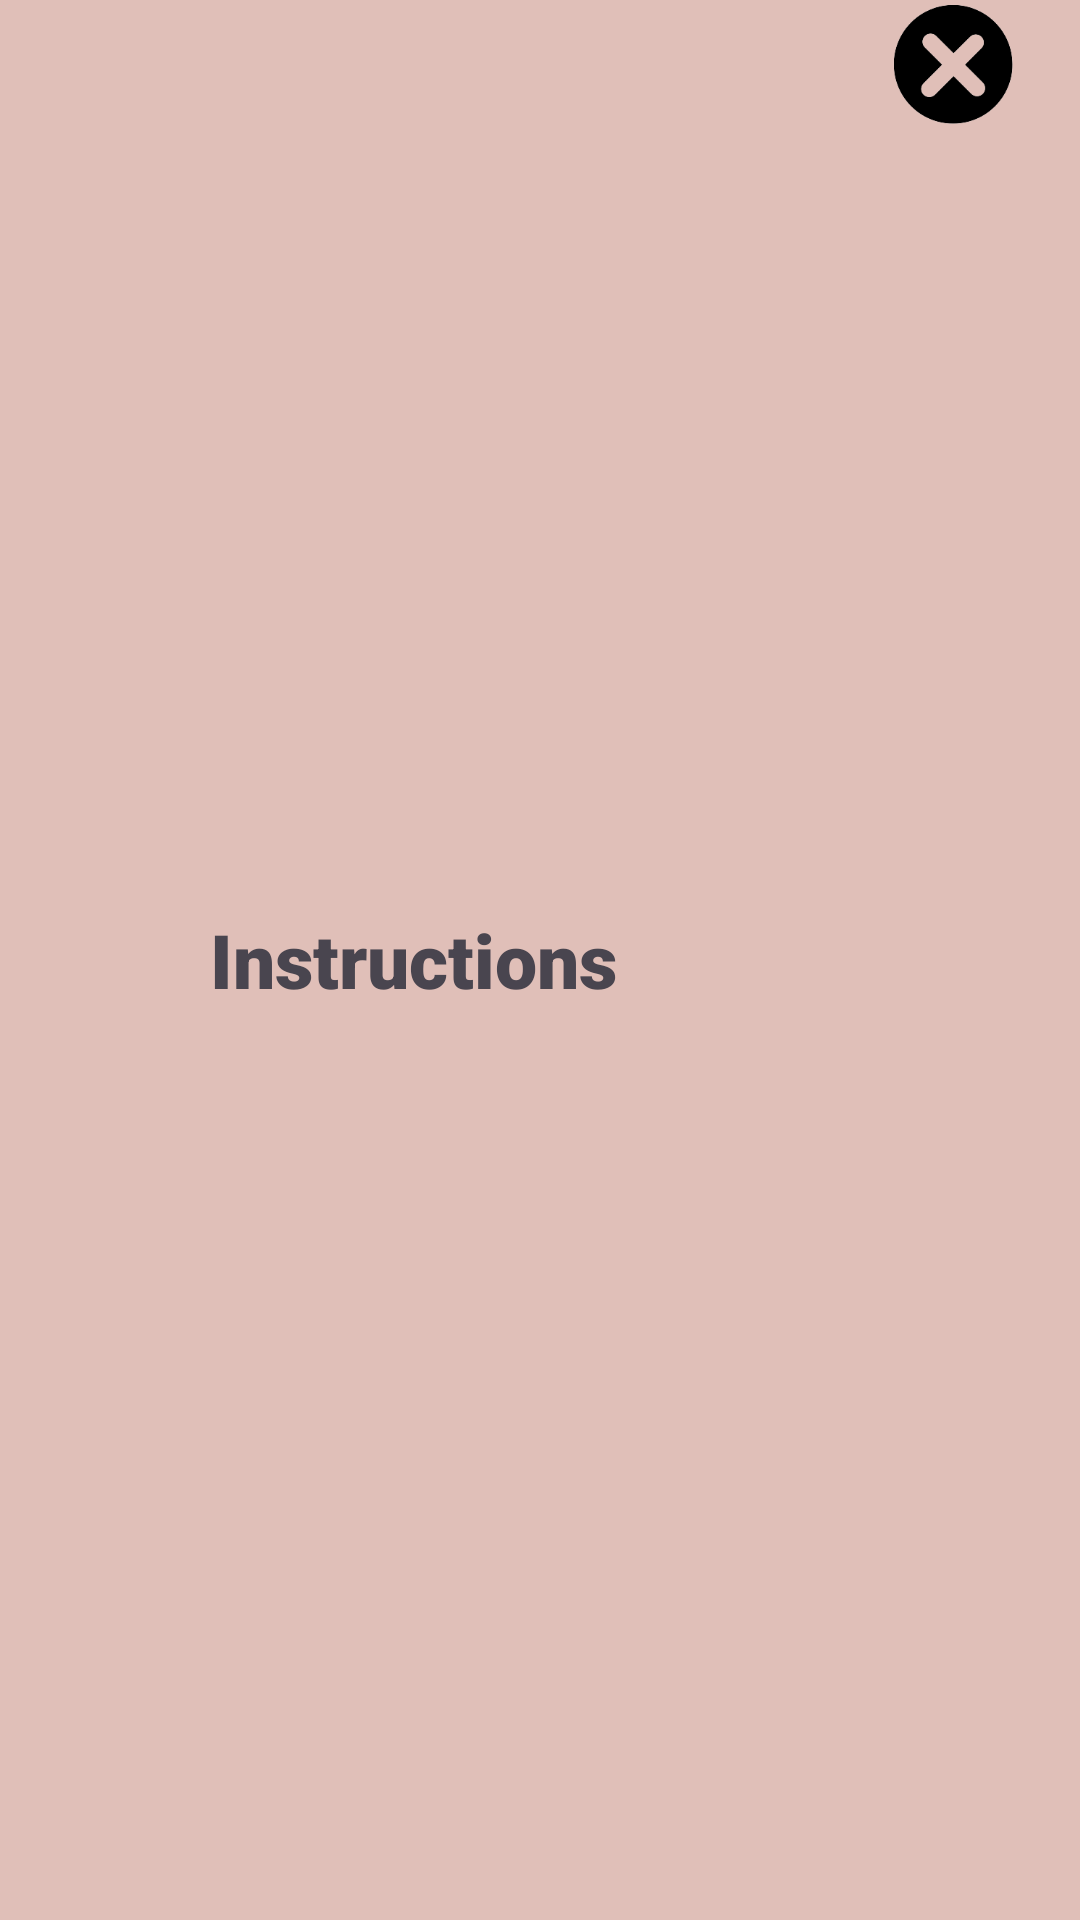

Screen size 1080px x 1920px. Icon name, then its box in pixels as (x1=x1, y1=y1, x2=x2, y2=y2):
closeicon: (x1=894, y1=5, x2=1013, y2=124)
